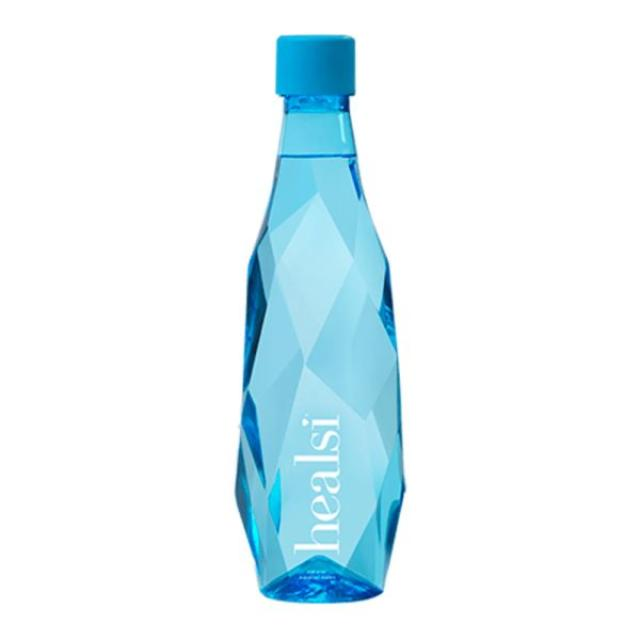bottle: (235, 35, 405, 602)
